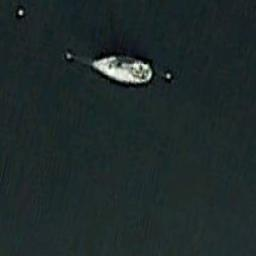boat: (89, 53, 153, 86)
